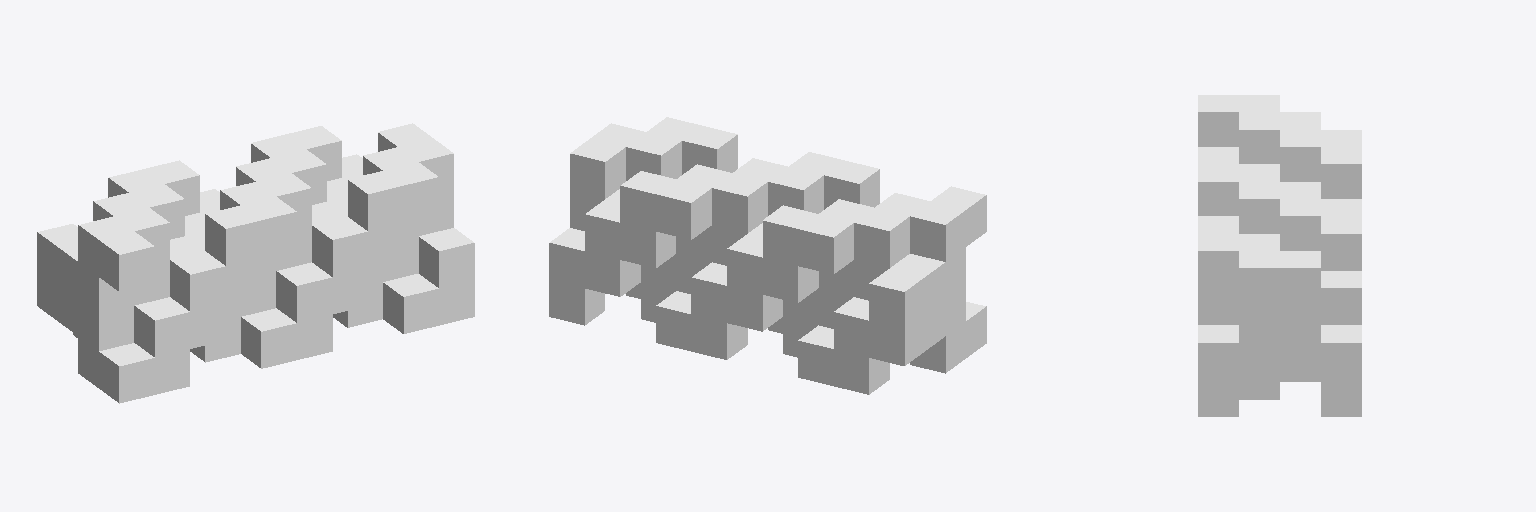
Rendered from hline.obj.
The picture shows the model from 3 angles: view 1: azimuth 30°, elevation 25°; view 2: azimuth 150°, elevation 25°; view 3: azimuth 270°, elevation 25°; orthographic projection.
Visible parts, largest first — view 1: object 1; view 2: object 1; view 3: object 1.
Part boxes in pixels (left/top/right/bottom): object 1: left=37, top=123, right=474, bottom=403; object 1: left=549, top=117, right=986, bottom=394; object 1: left=1198, top=95, right=1361, bottom=416.
Bounding box in the file's own units: 1 × 0.4 × 0.4.